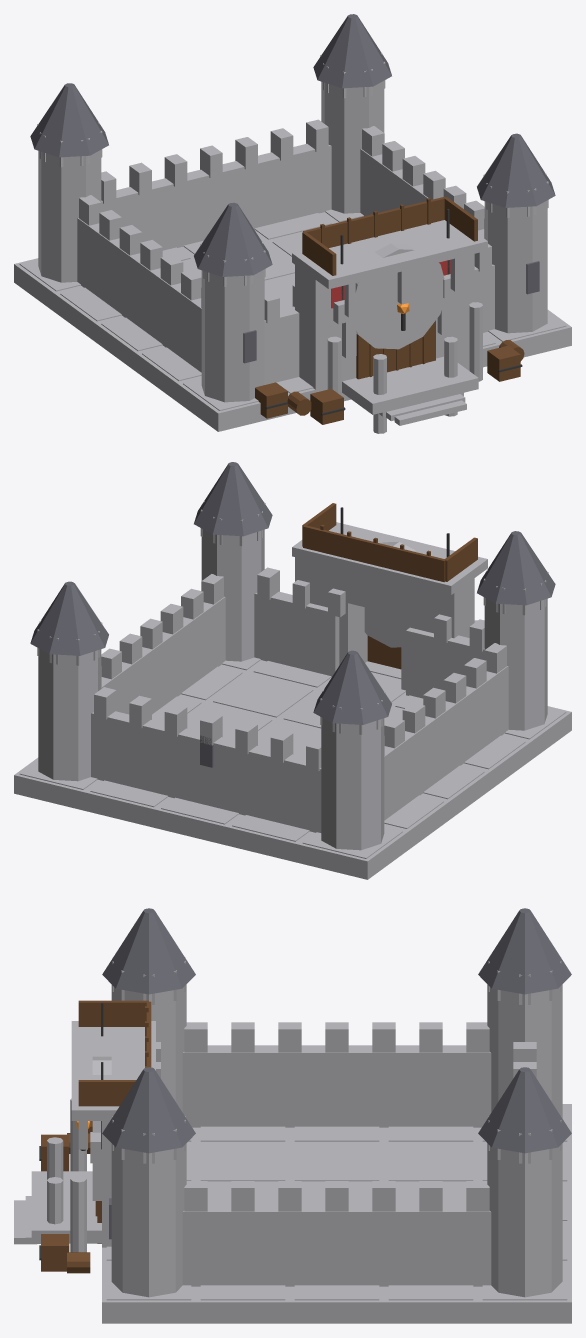
The model's file is castle1blender (1).fbx.
The picture shows the model from 3 angles, top to bottom: view 1: azimuth 30°, elevation 25°; view 2: azimuth 150°, elevation 25°; view 3: azimuth 270°, elevation 25°; orthographic projection. The views are drawn at different scales.
Visible parts, largest first — view 1: Cube.007, Cube.005, Foundation.001, Tower_-8_-8, Tower_8_-8, Tower_-8_8, Stone_Balcony_Floor, Gate_Arch, Tower_8_8, Entrance_Platform, Tower_Roof_2, Tower_Roof_3 (+47 smaller); view 2: Cube.007, Foundation.001, Cube.005, Tower_-8_8, Tower_8_8, Cube.006, Tower_-8_-8, Cube.009, Tower_8_-8, Gatehouse_Upper, Tower_Roof_0, Tower_Roof_1 (+45 smaller); view 3: Cube.006, Cube.005, Foundation.001, Tower_8_-8, Tower_8_8, Tower_-8_8, Tower_Roof_2, Tower_Roof_1, Tower_Roof_0, Tower_Roof_3, Stone_Balcony_Floor, Tower_-8_-8 (+40 smaller).
Part boxes in pixels (left/top/right/bottom): Cube.007: left=101, top=143, right=331, bottom=250; Cube.005: left=77, top=218, right=201, bottom=372; Foundation.001: left=14, top=212, right=571, bottom=431; Tower_-8_-8: left=201, top=270, right=264, bottom=402; Tower_8_-8: left=484, top=201, right=547, bottom=333; Tower_-8_8: left=38, top=150, right=101, bottom=282; Stone_Balcony_Floor: left=292, top=220, right=487, bottom=289; Gate_Arch: left=354, top=243, right=444, bottom=349; Tower_8_8: left=321, top=81, right=384, bottom=213; Entrance_Platform: left=342, top=356, right=478, bottom=414; Tower_Roof_2: left=194, top=202, right=272, bottom=276; Tower_Roof_3: left=477, top=133, right=555, bottom=207; Cube.007: left=91, top=711, right=321, bottom=832; Foundation.001: left=14, top=660, right=571, bottom=879; Cube.005: left=384, top=666, right=508, bottom=820; Tower_-8_8: left=321, top=718, right=384, bottom=850; Tower_8_8: left=38, top=649, right=101, bottom=781; Cube.006: left=101, top=596, right=225, bottom=714; Tower_-8_-8: left=484, top=598, right=547, bottom=730; Cube.009: left=254, top=591, right=339, bottom=676; Tower_8_-8: left=201, top=529, right=264, bottom=661; Gatehouse_Upper: left=295, top=557, right=474, bottom=623; Tower_Roof_0: left=30, top=581, right=108, bottom=655; Tower_Roof_1: left=313, top=650, right=391, bottom=724; Cube.006: left=182, top=1204, right=491, bottom=1286; Cube.005: left=182, top=1045, right=491, bottom=1127; Foundation.001: left=102, top=1104, right=571, bottom=1323; Tower_8_-8: left=111, top=1143, right=186, bottom=1297; Tower_8_8: left=487, top=1143, right=562, bottom=1297; Tower_-8_8: left=487, top=984, right=562, bottom=1118; Tower_Roof_2: left=102, top=908, right=195, bottom=994; Tower_Roof_1: left=478, top=908, right=571, bottom=994; Tower_Roof_0: left=478, top=1067, right=571, bottom=1153; Tower_Roof_3: left=102, top=1067, right=195, bottom=1153; Stone_Balcony_Floor: left=71, top=1021, right=155, bottom=1120; Tower_-8_-8: left=111, top=984, right=186, bottom=1111.
Bounding box in the file's own units: 2000 × 1200 × 2375.
